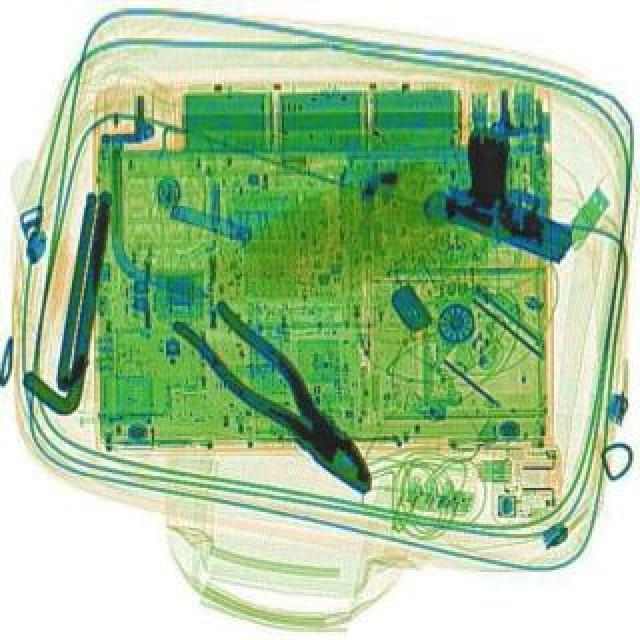gun: (430, 120, 604, 262)
wrench: (164, 286, 398, 508)
